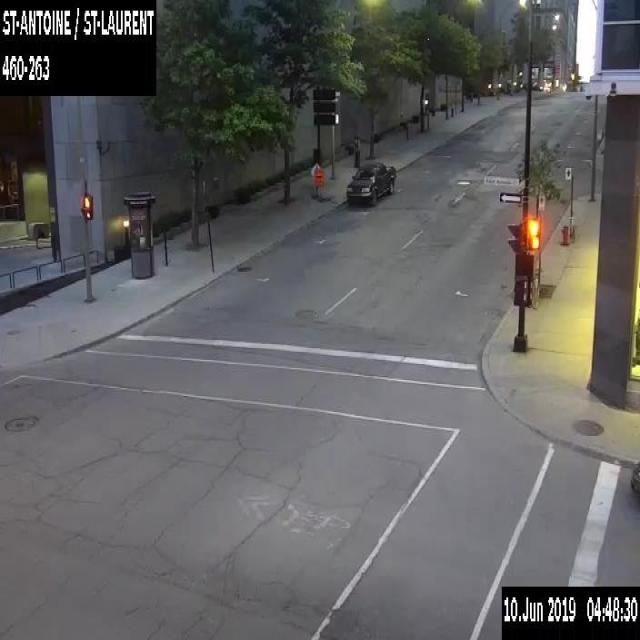construction: (310, 161, 324, 201)
vehicle: (345, 160, 396, 205), (630, 461, 639, 496)
